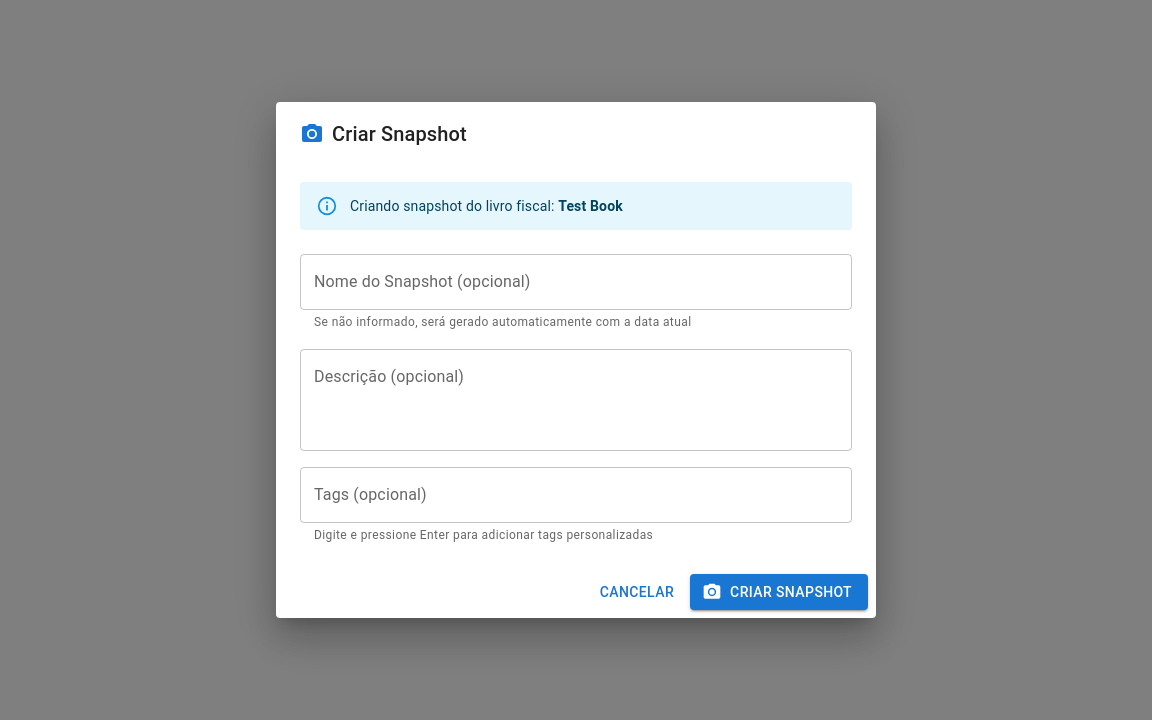
CreateSnapshotDialog › shows loading state during submission
This screenshot has width=1152, height=720.
Click the button "Criar Snapshot".
click(779, 592)  # box [690,574,868,610]
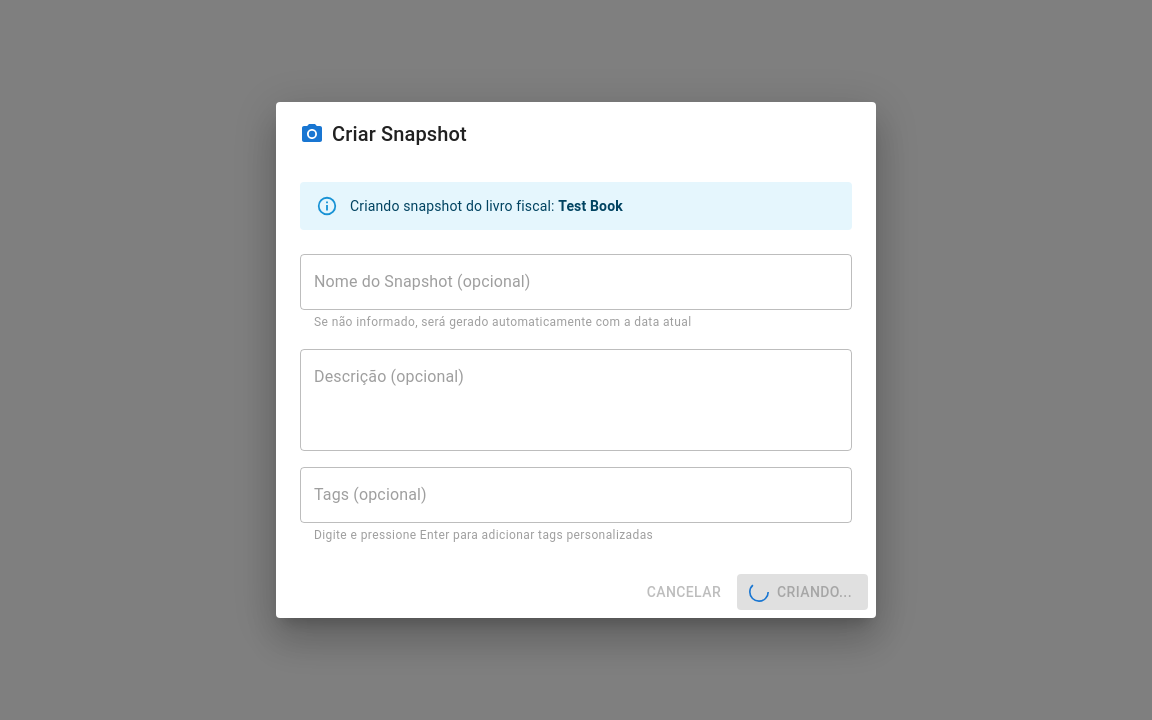
Result: the button "Criando..." is shown at [737,574,868,610]
